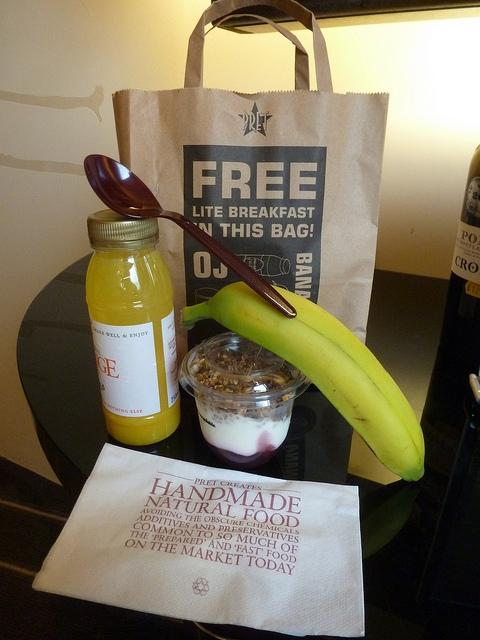banana: (181, 281, 426, 480)
